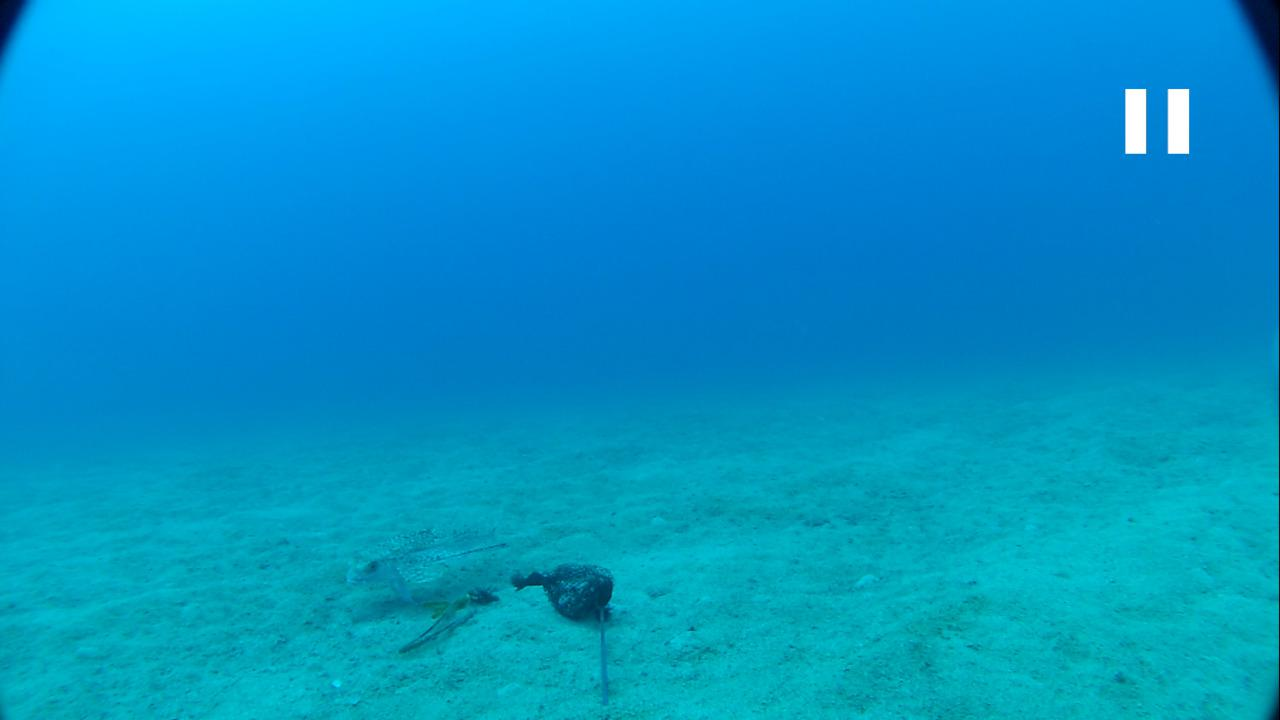dactylopterus: (335, 519, 528, 602)
